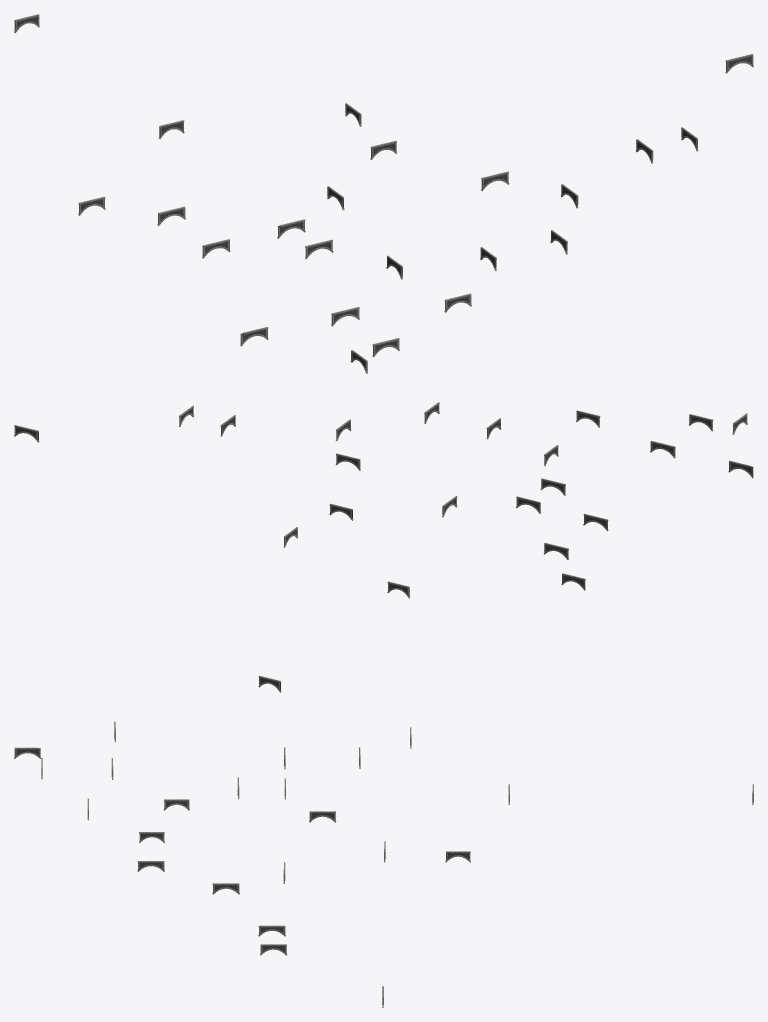
Rendered from lukiKrat.FBX.
3 views of the same model, one above another, from view 1: azimuth 30°, elevation 25°; view 2: azimuth 150°, elevation 25°; view 3: azimuth 270°, elevation 25° (orthographic). The views are drawn at different scales.
Visible parts, largest first — view 1: luki_do_krat; view 2: luki_do_krat; view 3: luki_do_krat.
Part boxes in pixels (left/top/right/bottom): luki_do_krat: left=14, top=14, right=753, bottom=373; luki_do_krat: left=14, top=402, right=753, bottom=692; luki_do_krat: left=14, top=721, right=753, bottom=1007.
Bounding box in the file's own units: 5329 × 109 × 6029.
Materials: 2 (2 with a texture image).
